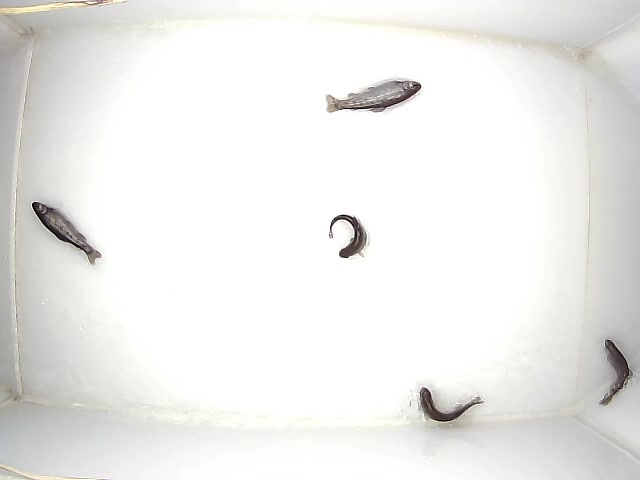fish: (31, 201, 102, 266), (326, 81, 421, 113), (599, 339, 633, 406), (420, 387, 484, 422), (329, 214, 367, 258)
